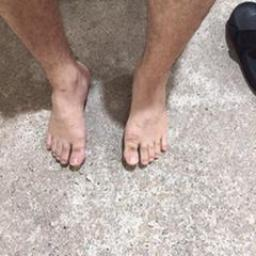Dorsal View -Both Feet-: (25, 42, 192, 181)
